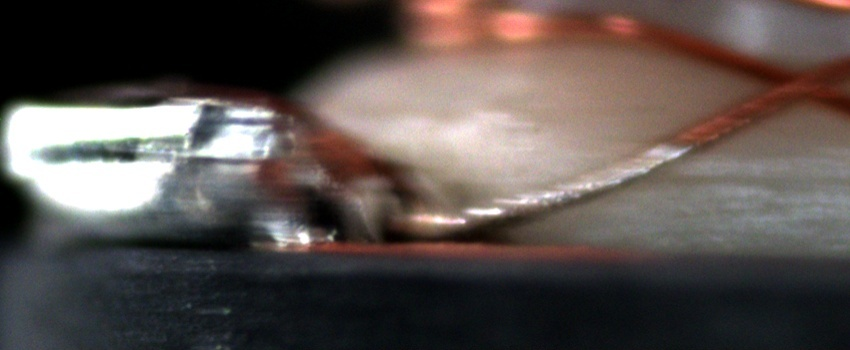CL: (751, 54, 834, 116)
DL: (662, 144, 850, 203)
TS: (395, 139, 693, 238)
